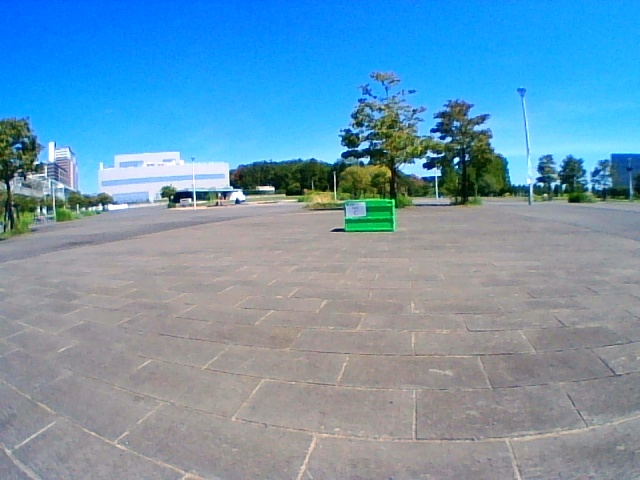green_box: (345, 199, 393, 231)
tag: (346, 203, 365, 216)
